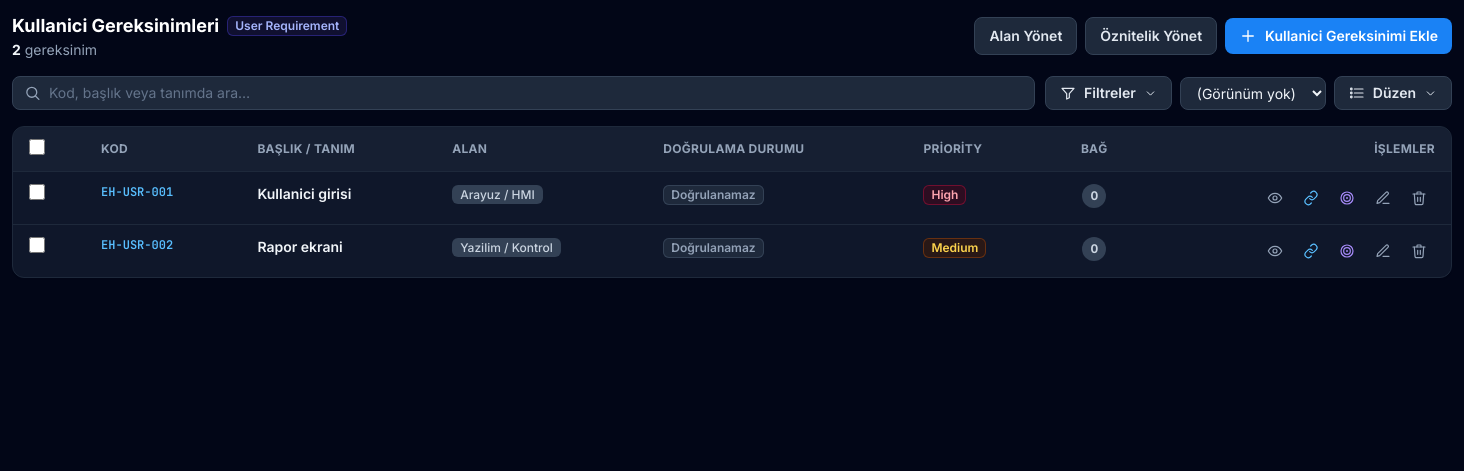
Hierarchy — ortak filtre cubugu › Temizle butonu arama dahil tum filtreleri sifirlar
The width and height of the screenshot is (1464, 471).
Click the button with test id "filter-toggle" at (1108, 93), box x1=1045 y1=76 x2=1172 y2=110
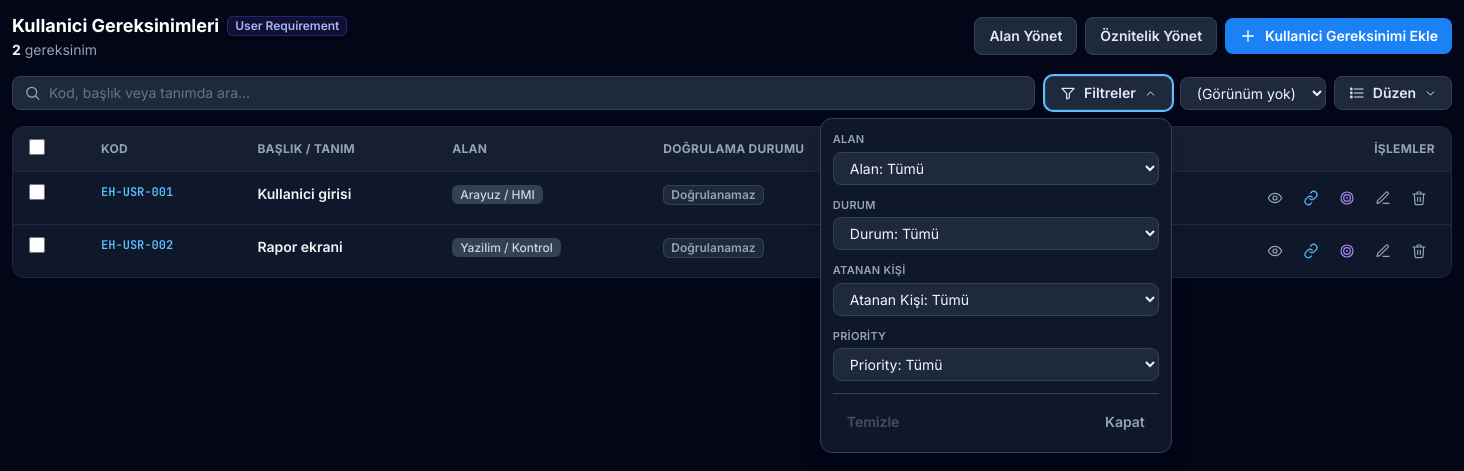
Result: the button with test id "filter-clear" is disabled at x1=833 y1=404 x2=913 y2=440
Type "rapor" into the field with test id "filter-search" at (524, 93), box x1=12 y1=76 x2=1035 y2=110
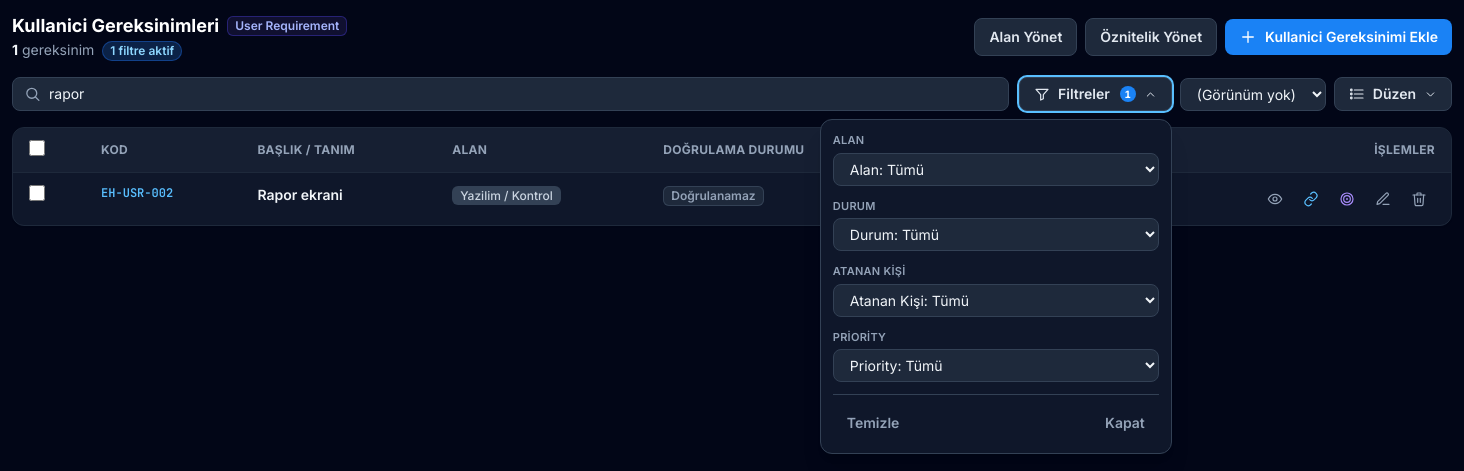
Select "Medium" in the dropdown with test id "filter-attr-priority" at (996, 366), box x1=833 y1=349 x2=1159 y2=382
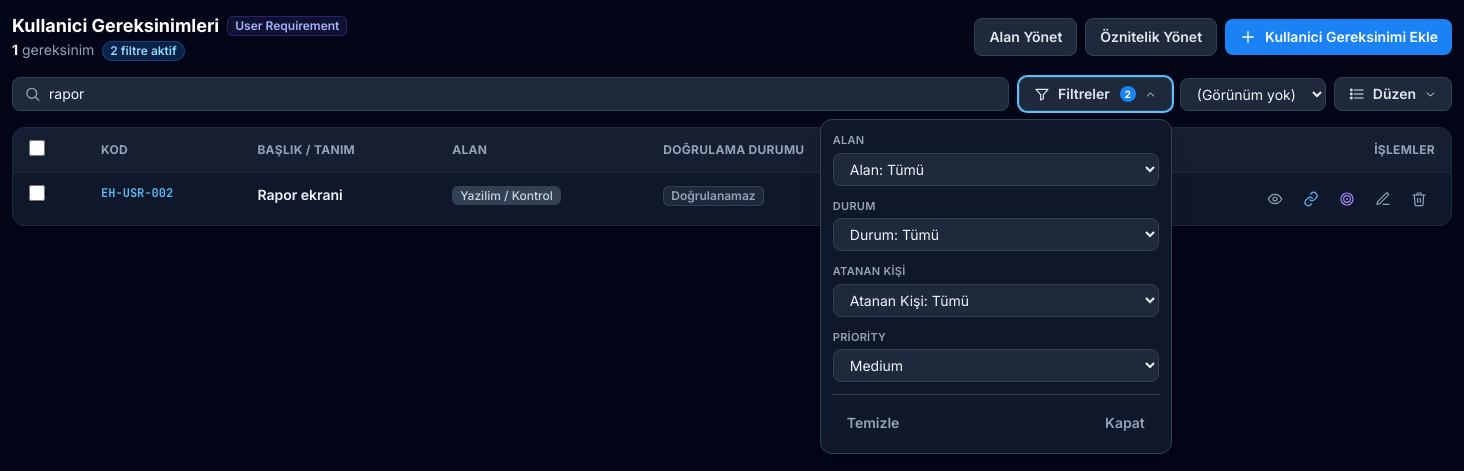
Click the button with test id "filter-clear" at (873, 423), box x1=833 y1=405 x2=913 y2=441
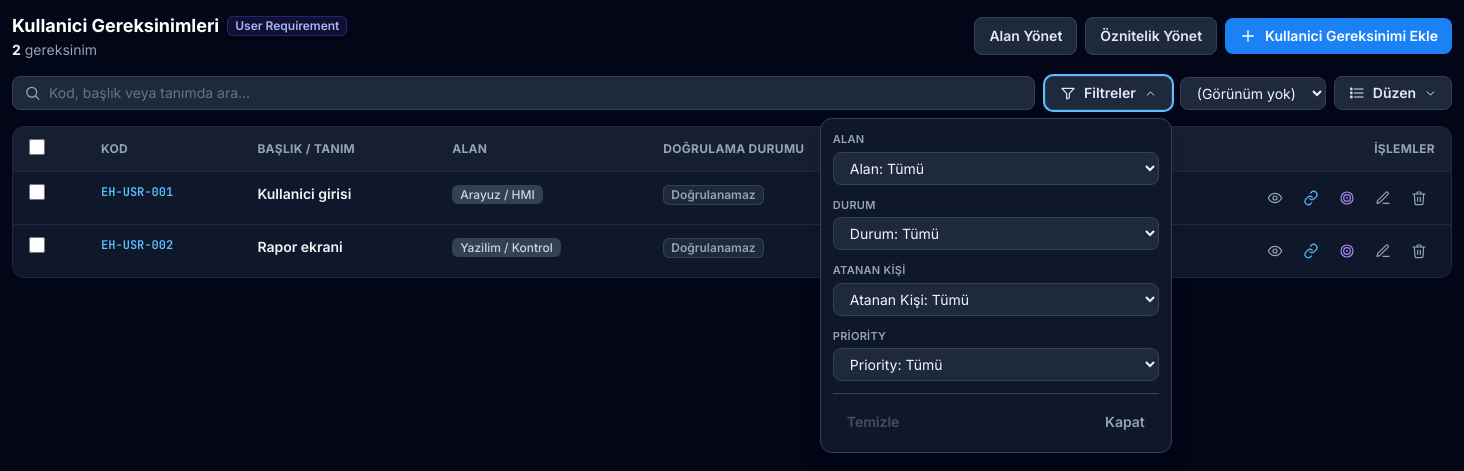
Result: the field with test id "filter-search" is empty at x1=12 y1=76 x2=1035 y2=110
Result: the text with test id "filter-active-badge" is gone
